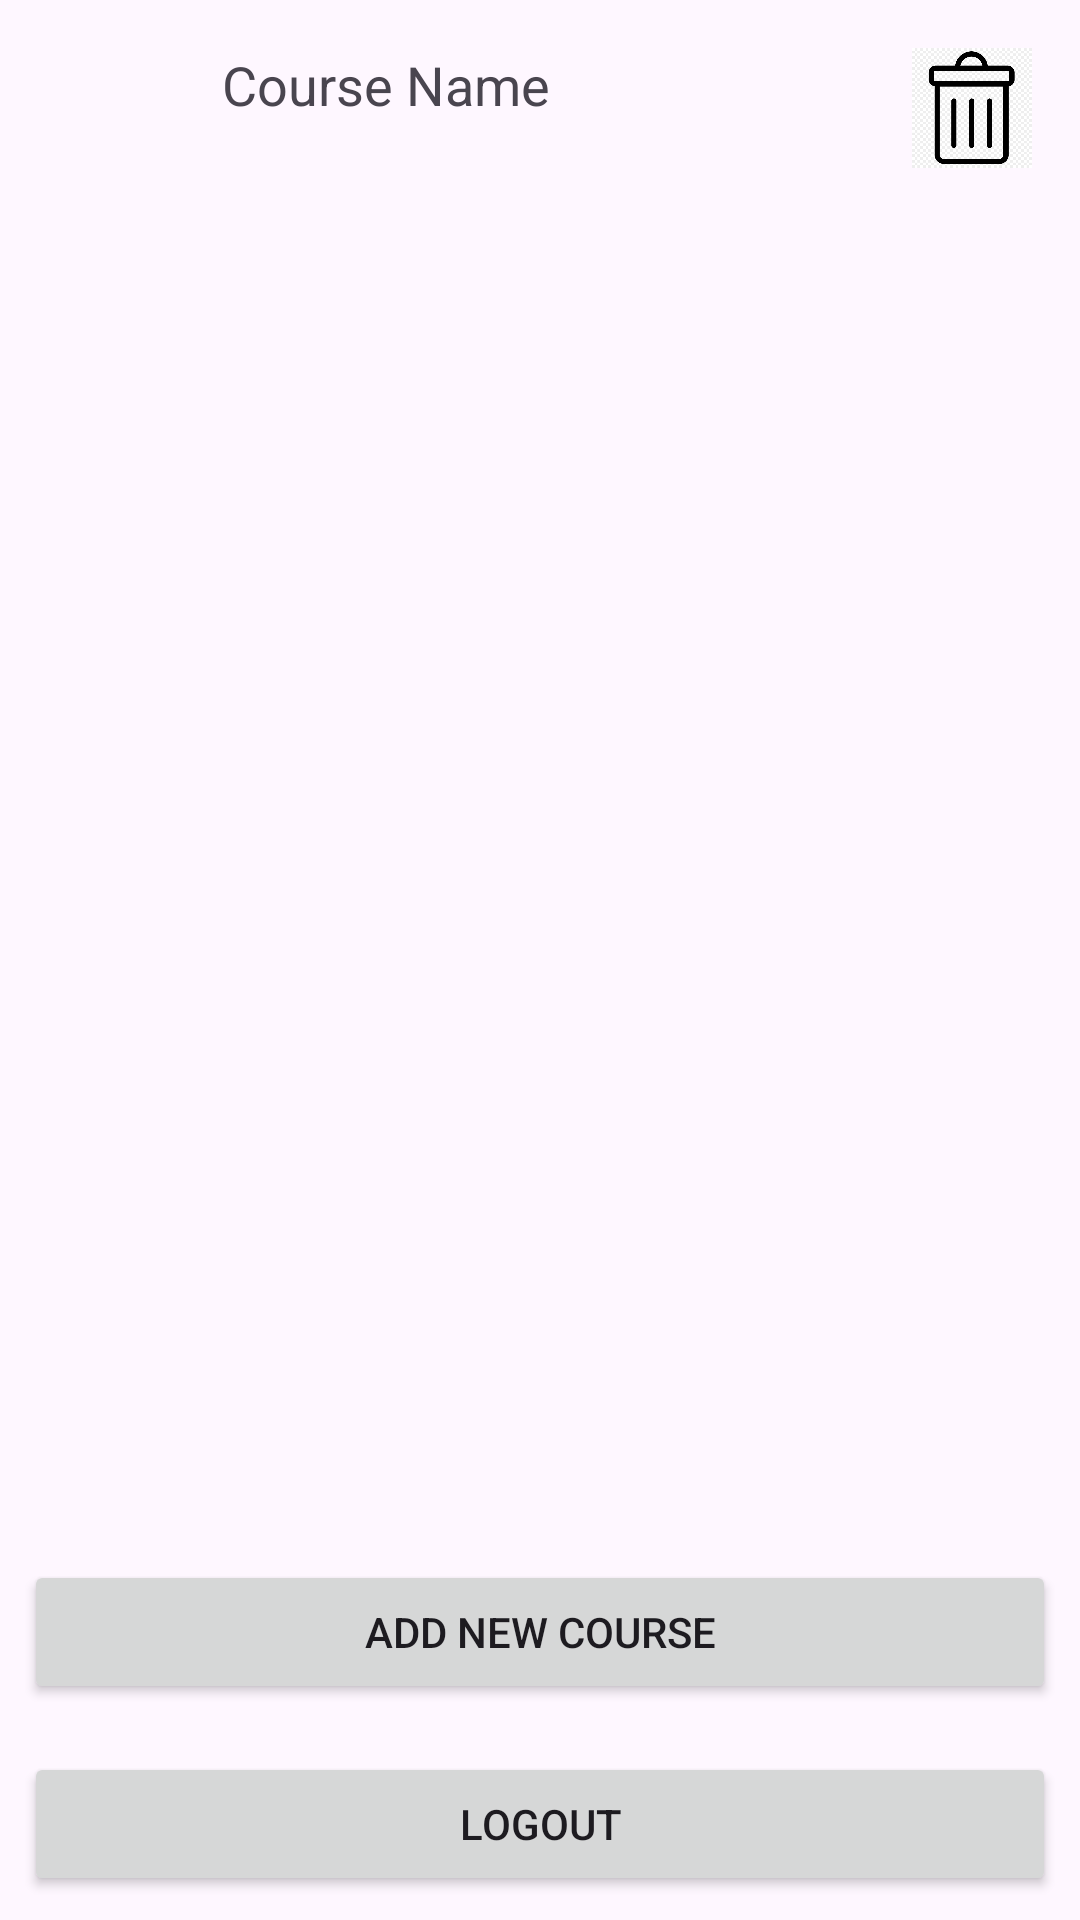

Screen size 1080x1920. Icon name, then its center in pixels as (x,y):
trash: (971,107)
